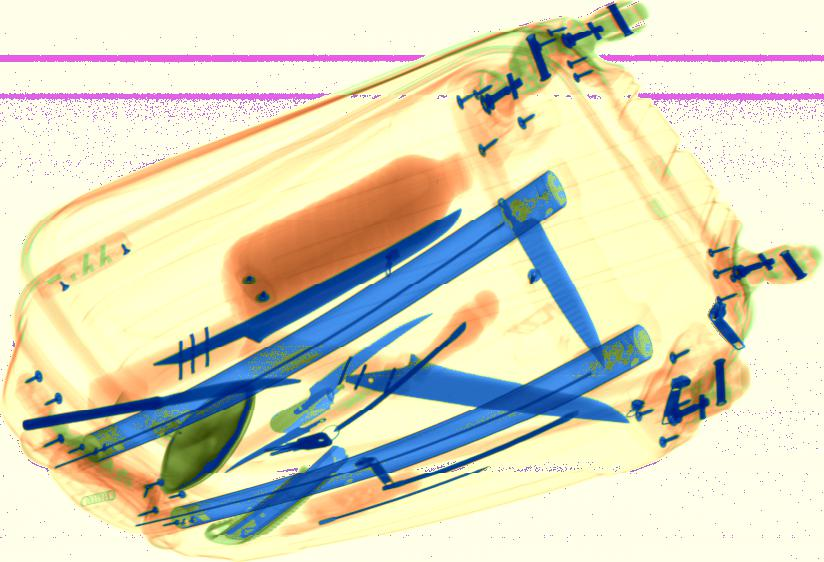Knife: (135, 205, 465, 386), (329, 350, 633, 425), (494, 193, 609, 370), (292, 309, 435, 418), (21, 376, 302, 430), (225, 390, 370, 472), (267, 389, 337, 435)
